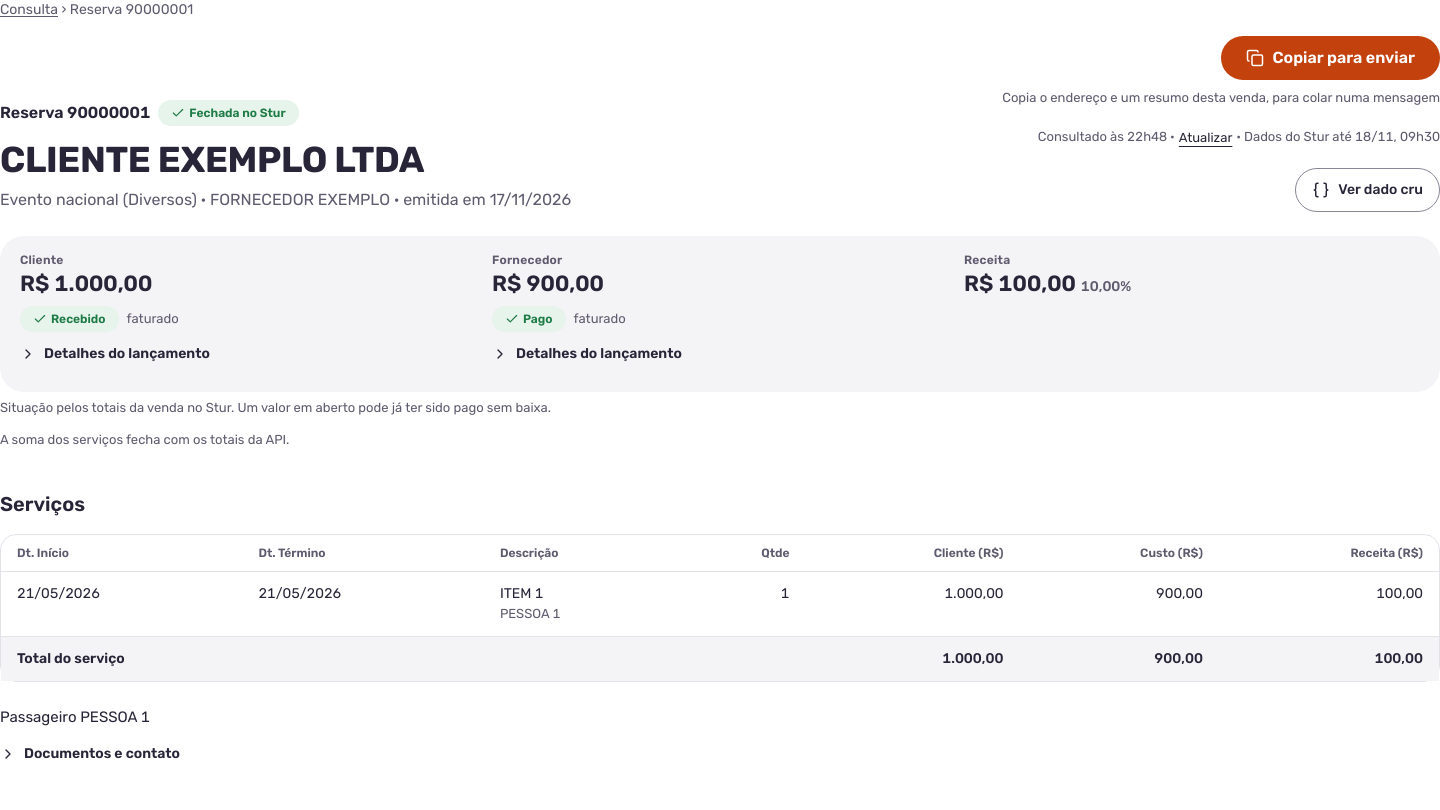
Scenario: o erro diz que o dado cru não carregou, deixa Tentar de novo e Fechar, e tentar de novo carrega
Step 1. Click the button "Ver dado cru" → (1368, 190), box [1295,168,1439,212]
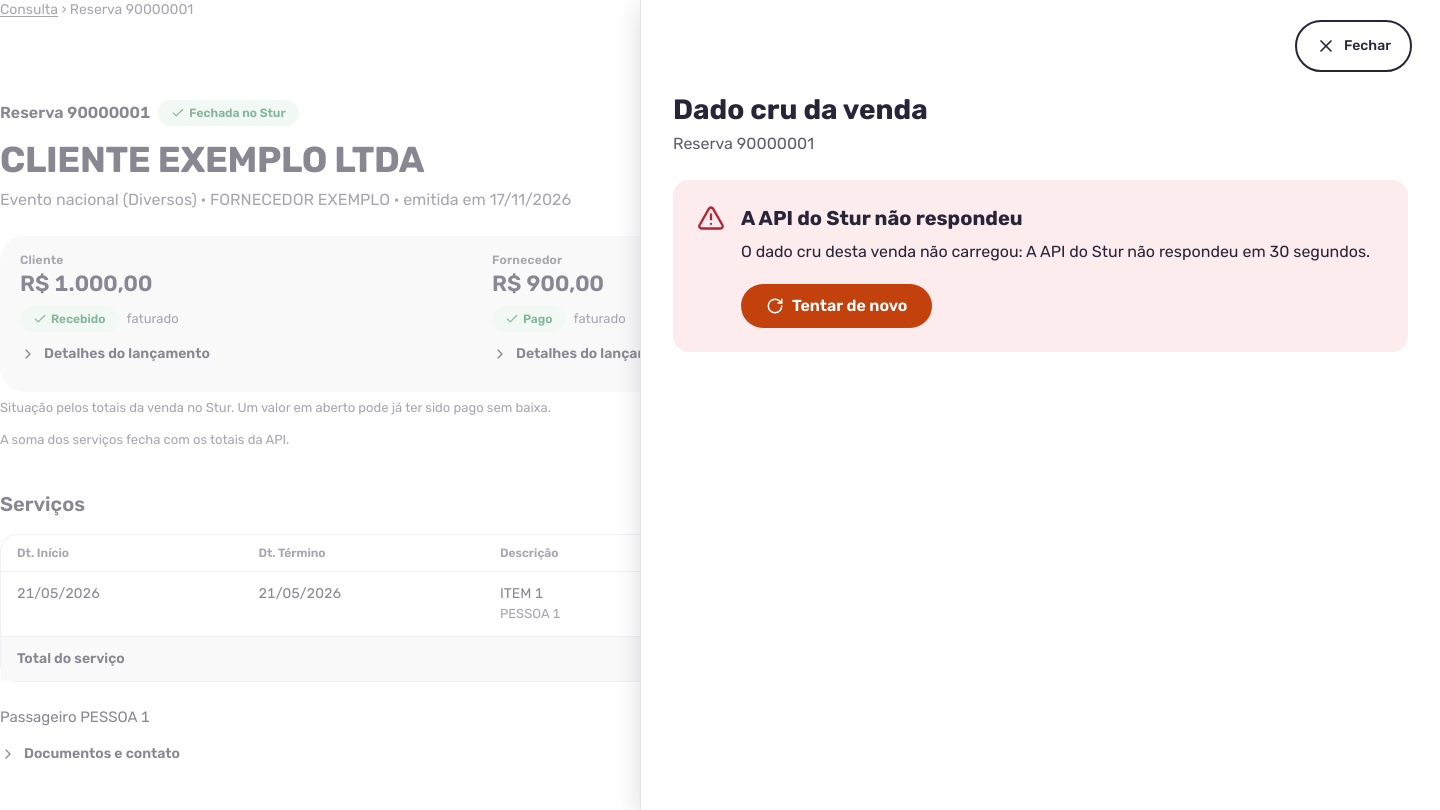
Expected: the field labelled "Buscar no JSON" is not shown
Expected: the text "O dado cru desta venda não carregou: A API do Stur não respondeu em 30 segundos." is shown, [741,240,1384,264]
Expected: the button "Fechar" is shown, [1299,24,1408,68]
Step 2. Click the button "Tentar de novo" → (837, 306), box [741,284,932,328]
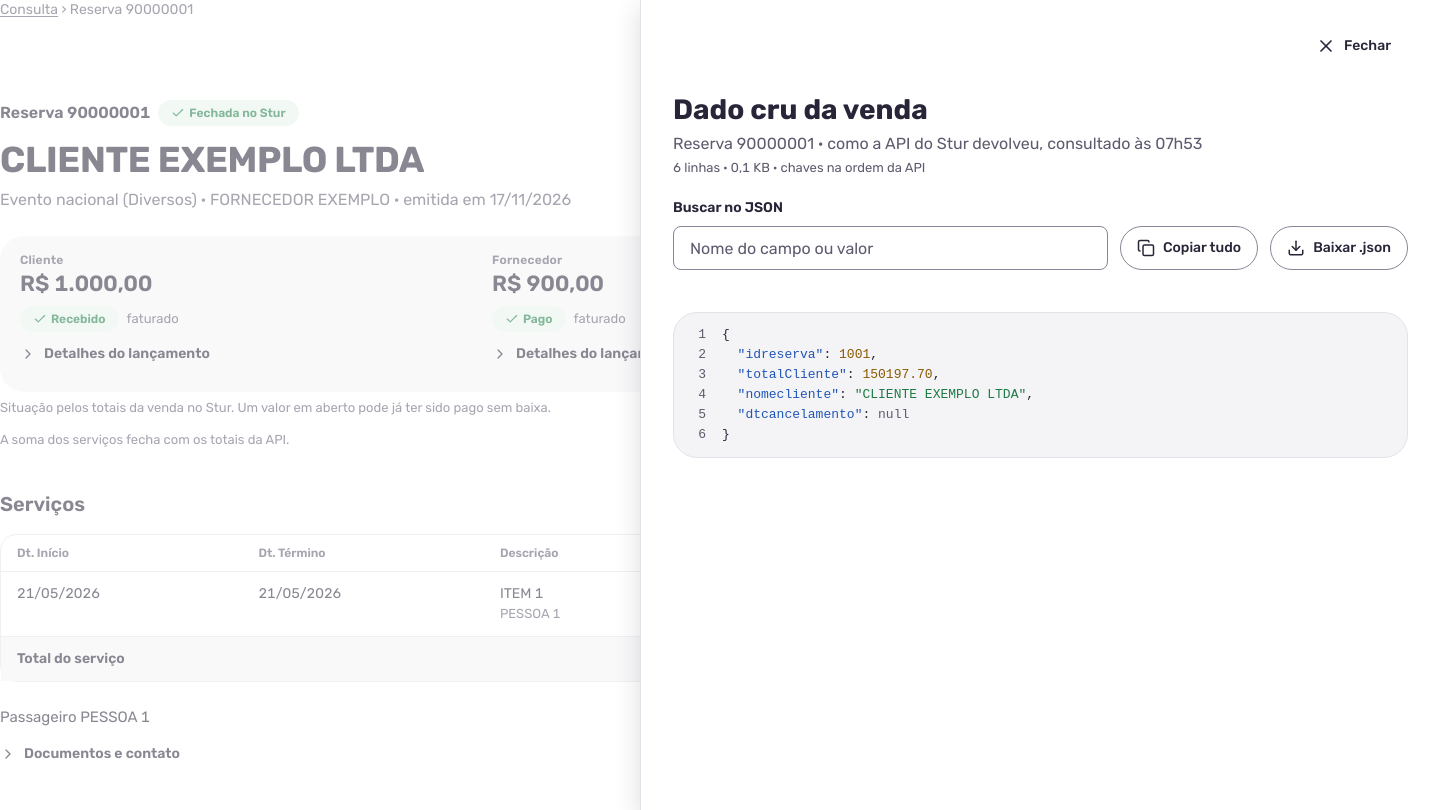
Expected: the element named "JSON da venda" is shown, [673,312,1408,458]
Expected: the message is gone
